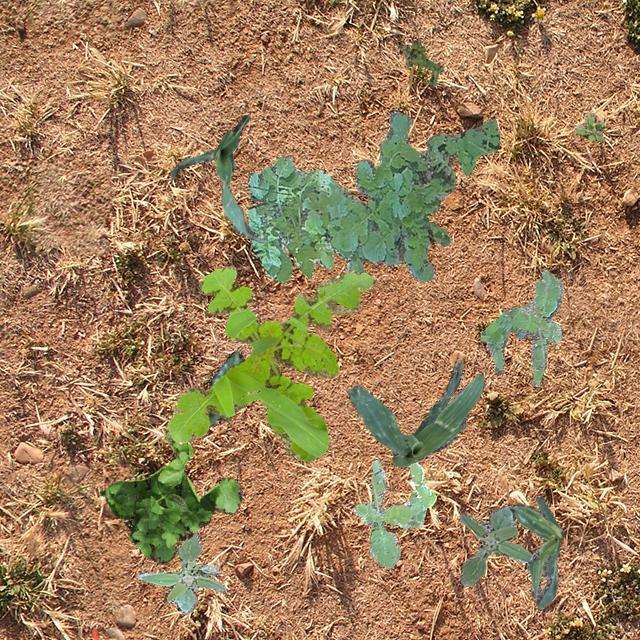crop: (348, 359, 484, 466), (168, 114, 266, 242), (510, 494, 562, 608), (207, 351, 243, 426)
weed: (246, 110, 498, 280), (166, 264, 374, 460), (98, 428, 240, 562), (480, 268, 562, 384), (352, 458, 436, 568), (137, 530, 225, 612), (458, 504, 532, 584), (400, 38, 442, 86), (574, 112, 604, 140)
